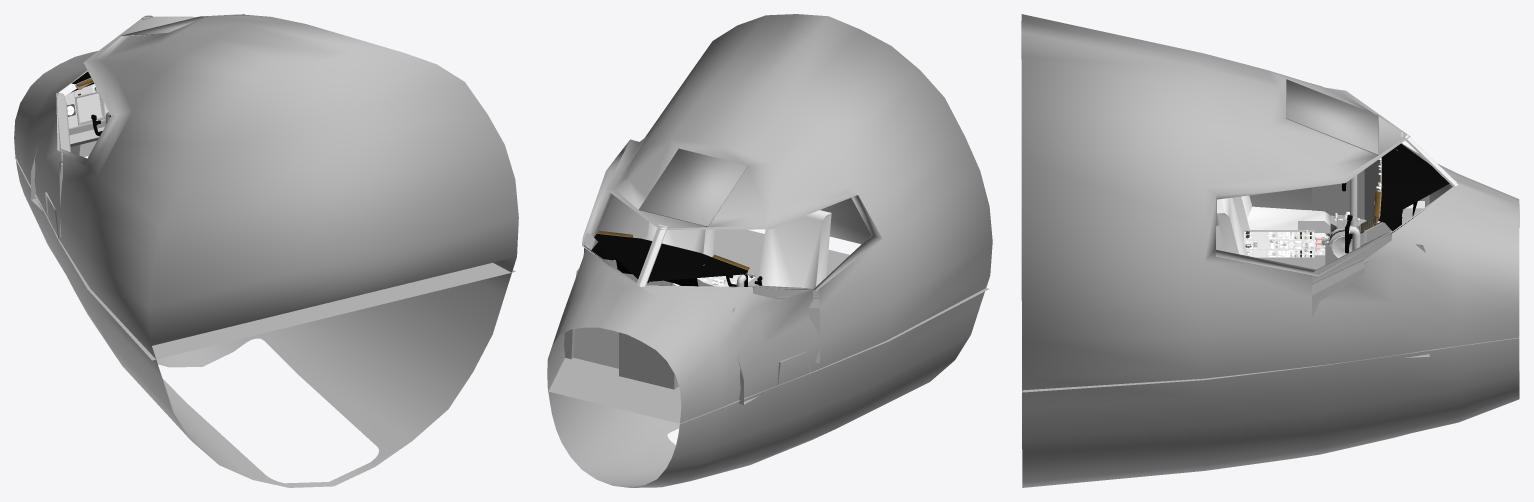
3 renders of one model, left to right at view 1: azimuth 30°, elevation 25°; view 2: azimuth 150°, elevation 25°; view 3: azimuth 270°, elevation 25°, orthographic. The views are drawn at different scales.
Parts seen in each view (by area): view 1: static-material-2, static-material-0, static-material-12; view 2: static-material-2, static-material-0, static-material-1, static-material-6; view 3: static-material-2, static-material-0, static-material-1, static-material-6, static-material-43, static-material-3.
Part boxes in pixels (bbox=[...]): static-material-2: bbox=[14, 14, 518, 487]; static-material-0: bbox=[14, 93, 515, 360]; static-material-12: bbox=[64, 85, 108, 127]; static-material-2: bbox=[547, 14, 992, 487]; static-material-0: bbox=[548, 229, 988, 423]; static-material-1: bbox=[573, 210, 831, 368]; static-material-6: bbox=[591, 234, 762, 286]; static-material-2: bbox=[1021, 14, 1519, 487]; static-material-0: bbox=[1022, 160, 1518, 392]; static-material-1: bbox=[1217, 132, 1458, 269]; static-material-6: bbox=[1342, 144, 1449, 253]; static-material-43: bbox=[1244, 231, 1313, 257]; static-material-3: bbox=[1349, 169, 1381, 250].
Size of the model in its own units: 3.06 by 3.42 by 3.49.
48 materials, 32 textured.
